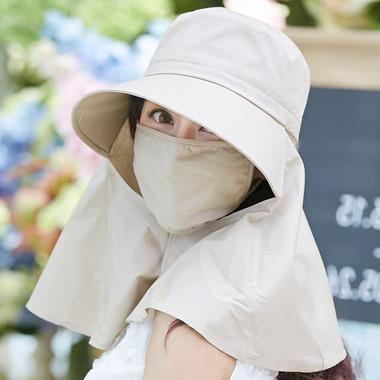OK: (134, 91, 272, 229)
